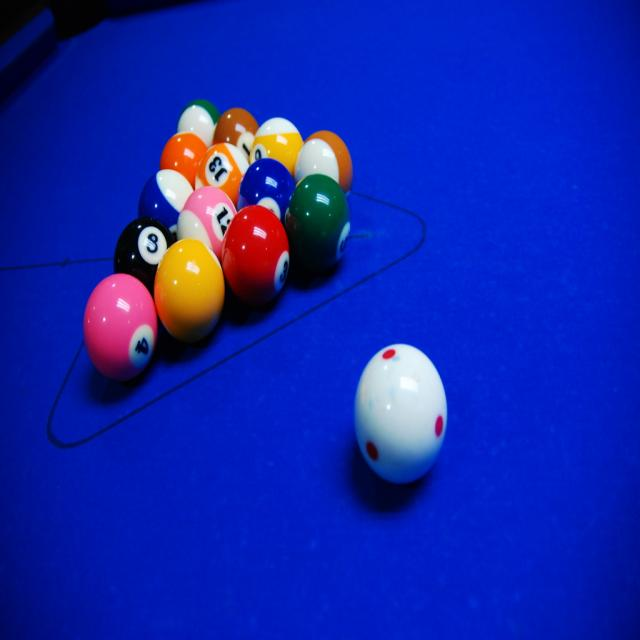Ball: (84, 100, 448, 484)
Billiard table: (1, 0, 640, 638)
